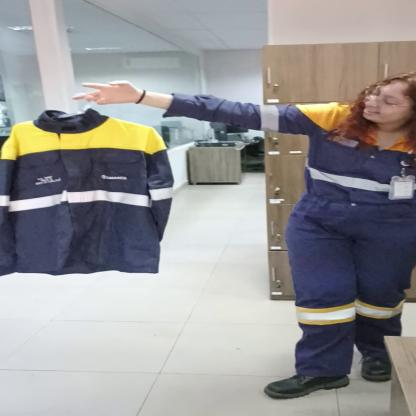C_eletrica: (0, 111, 173, 279)
Operacional: (293, 103, 416, 204)
